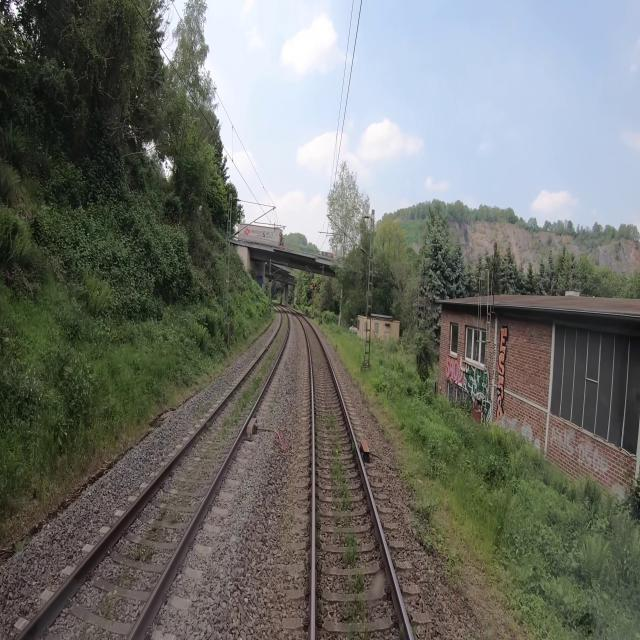Plant: (222, 373, 264, 433), (342, 591, 369, 639), (412, 500, 437, 551), (330, 458, 351, 514), (262, 334, 282, 376), (342, 532, 358, 567), (353, 571, 364, 592), (324, 411, 335, 427), (332, 440, 341, 456), (319, 597, 325, 615)
